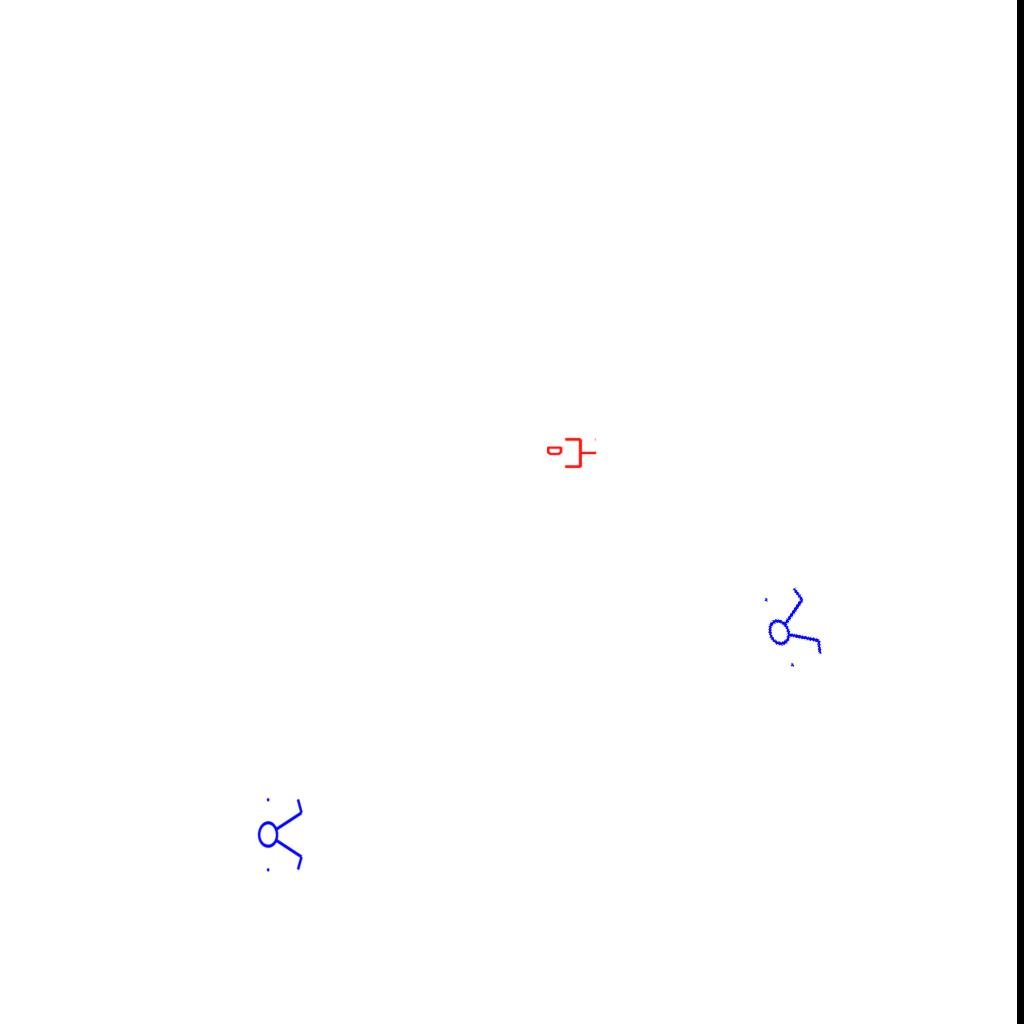Datenanschluss_einfach: (547, 436, 597, 470)
Serienschalter: (753, 579, 829, 675), (257, 792, 305, 876)
